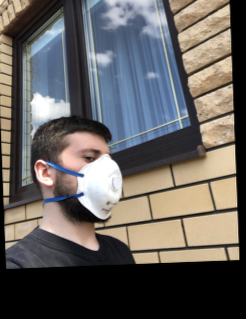with_mask: (69, 143, 124, 223)
